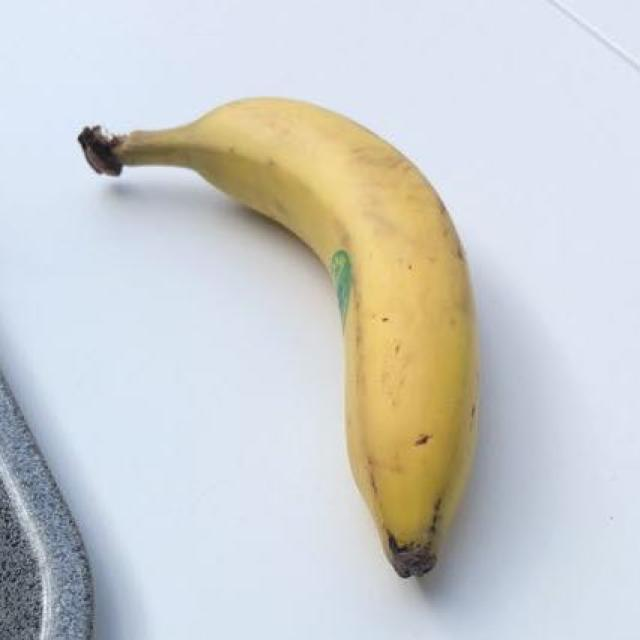Banana: (65, 81, 491, 584)
